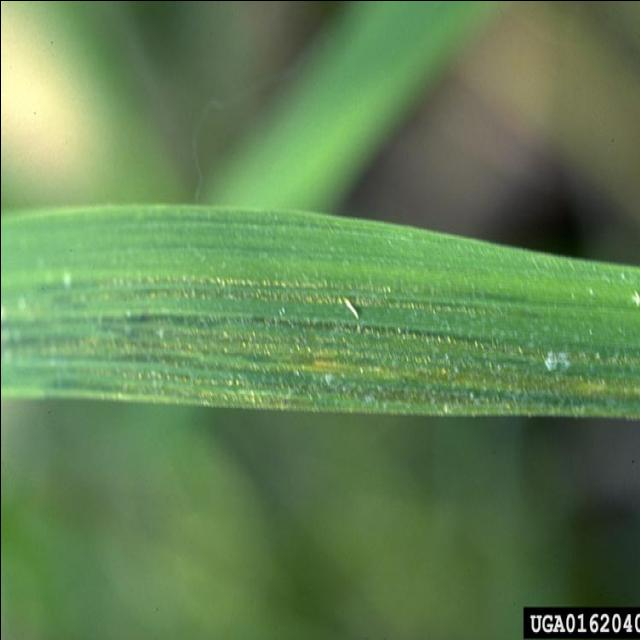Bacterial leaf blight: (119, 258, 397, 337), (396, 346, 624, 410), (302, 343, 364, 375)
